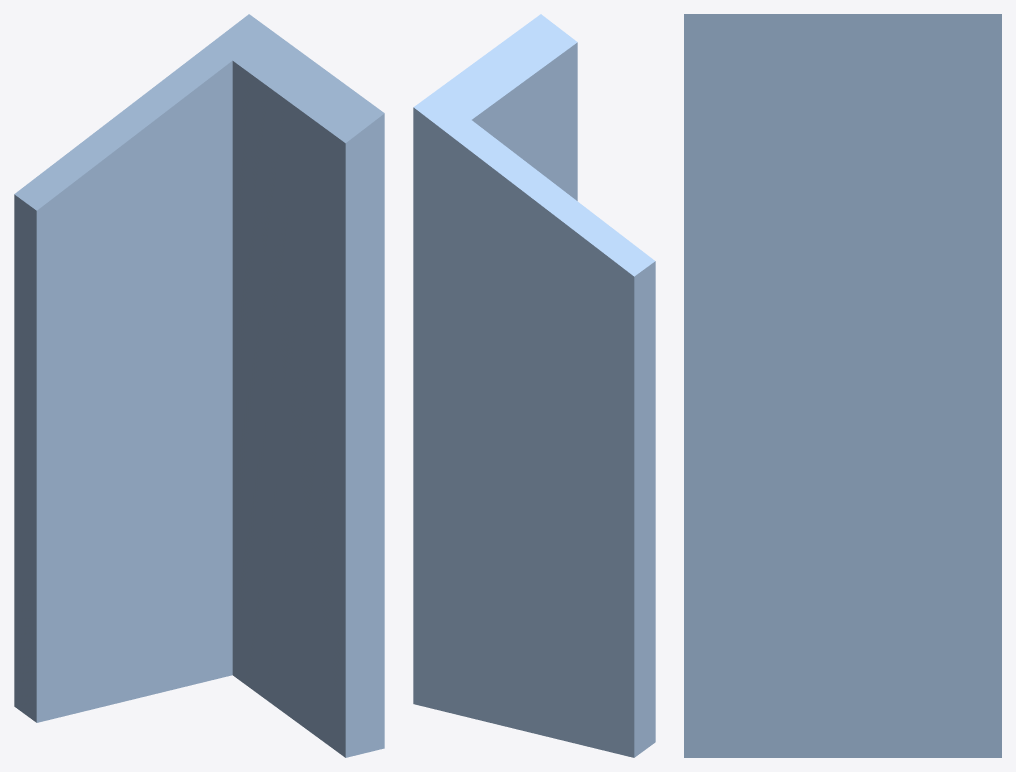
File: SM_WallCornerStairs_Out_1x2_02a.glb
3 views of the same model, side by side, from view 1: azimuth 30°, elevation 25°; view 2: azimuth 150°, elevation 25°; view 3: azimuth 270°, elevation 25° (orthographic). The views are drawn at different scales.
Parts seen in each view (by area): view 1: SM_WallCornerStairs_Out_1x2_02a; view 2: SM_WallCornerStairs_Out_1x2_02a; view 3: SM_WallCornerStairs_Out_1x2_02a.
Part boxes in pixels (x1,y1,x2,y2): SM_WallCornerStairs_Out_1x2_02a: (14,14,384,757); SM_WallCornerStairs_Out_1x2_02a: (413,14,655,757); SM_WallCornerStairs_Out_1x2_02a: (684,14,1001,757).
Size of what is drawn, in the model's own units: 1.2 by 3.1 by 1.2.
